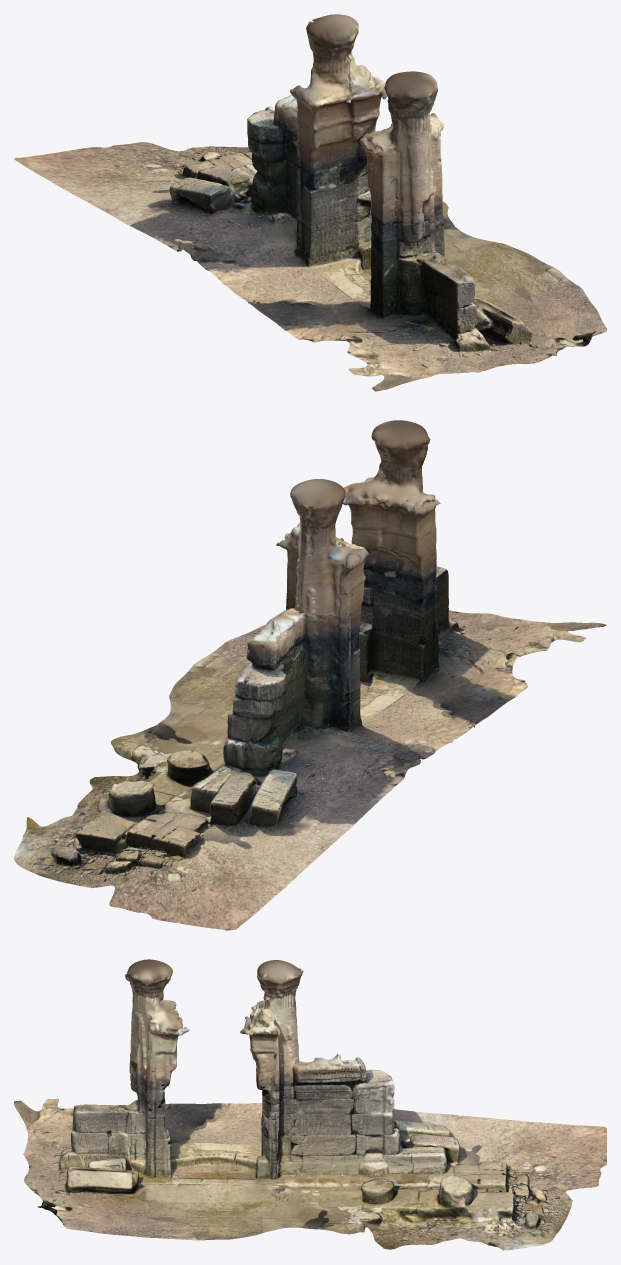
File: site-a.glb
3 renders of one model, top to bottom at view 1: azimuth 30°, elevation 25°; view 2: azimuth 150°, elevation 25°; view 3: azimuth 270°, elevation 25°, orthographic. The views are drawn at different scales.
Visible parts, largest first — view 1: Columns, pavement and loose stones, Columns, pavement and loose stones.001; view 2: Columns, pavement and loose stones, Columns, pavement and loose stones.001; view 3: Columns, pavement and loose stones, Columns, pavement and loose stones.001.
Part boxes in pixels (x1=…): Columns, pavement and loose stones: x1=14, y1=20, x2=606, y2=389; Columns, pavement and loose stones.001: x1=27, y1=14, x2=572, y2=391; Columns, pavement and loose stones: x1=14, y1=420, x2=603, y2=930; Columns, pavement and loose stones.001: x1=23, y1=431, x2=606, y2=923; Columns, pavement and loose stones: x1=18, y1=959, x2=606, y2=1250; Columns, pavement and loose stones.001: x1=14, y1=960, x2=606, y2=1250.
Bounding box in the file's own units: 6.19 × 5.67 × 13.34.
2 materials, 2 textured.
